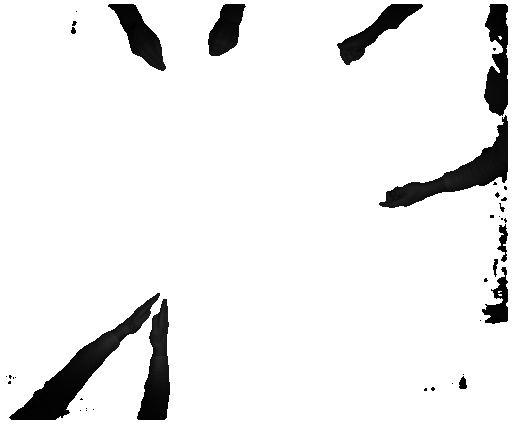fist: (336, 30, 368, 71), (208, 25, 239, 55)
hand: (376, 176, 430, 207), (121, 35, 167, 71)
spine: (113, 288, 163, 338), (151, 299, 175, 357)
